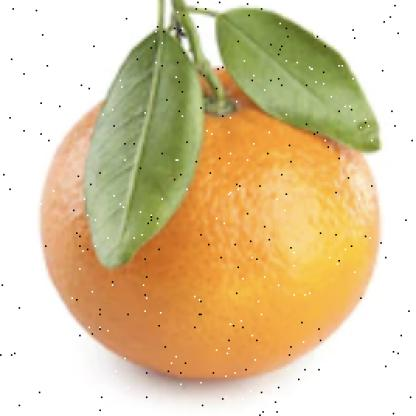orange: (8, 40, 385, 386)
